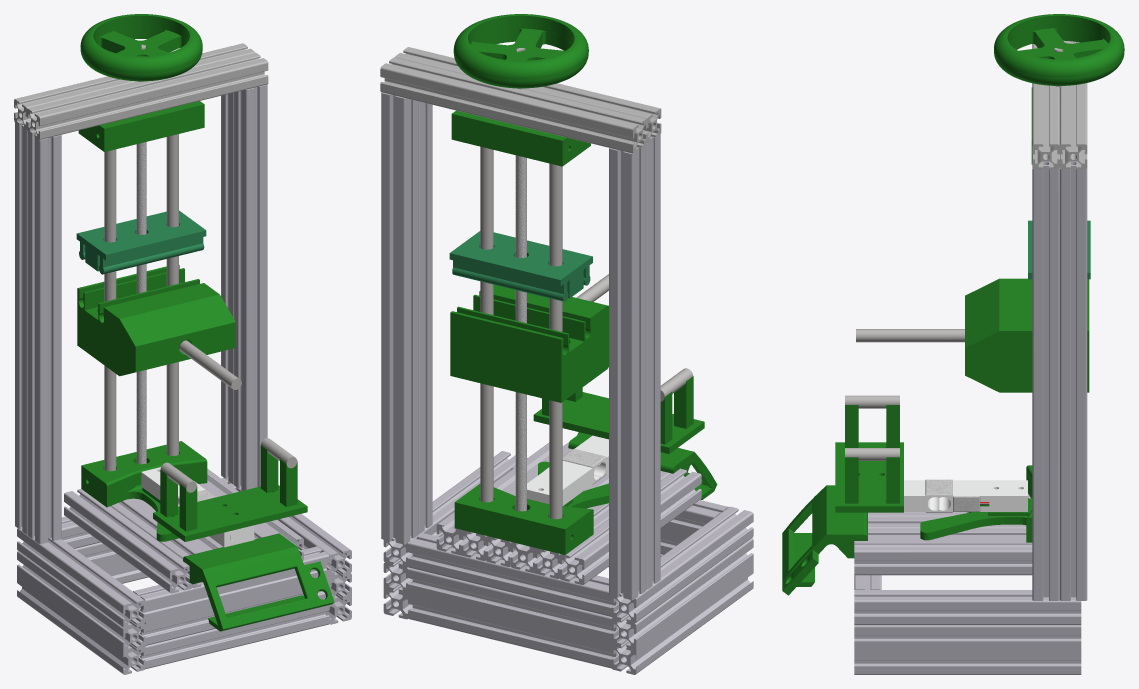
Rendered from Montagem final.glb.
3 renders of one model, left to right at view 1: azimuth 30°, elevation 25°; view 2: azimuth 150°, elevation 25°; view 3: azimuth 270°, elevation 25°, orthographic. The views are drawn at different scales.
Parts seen in each view (by area): view 1: Perfil de Aluminio 20x60x346 (×2), Sólido1 (×6), Perfil de Alumínio 20x60x165 (×6), Perfil de Aluminio 20x60x205, Sólido2 (×3), Guia linear 8x295 (×2), Fuso trapezoidal 10x300, Célula de Carga 129x27x12,7, Ponteira; view 2: Perfil de Aluminio 20x60x346 (×2), Perfil de Alumínio 20x60x165 (×6), Sólido1 (×6), Perfil de Aluminio 20x60x205, Sólido2 (×2), Guia linear 8x295 (×2), Fuso trapezoidal 10x300, Célula de Carga 129x27x12,7; view 3: Perfil de Alumínio 20x60x165 (×2), Perfil de Aluminio 20x60x346, Sólido1 (×5), Sólido2 (×3), Perfil de Aluminio 20x60x205, Célula de Carga 129x27x12,7, Ponteira, Rolete (×2).
Boxes of the visible parts, bbox=[...] form: Perfil de Aluminio 20x60x346 (×2): bbox=[15, 84, 267, 543]; Sólido1 (×6): bbox=[76, 101, 334, 631]; Perfil de Alumínio 20x60x165 (×6): bbox=[17, 468, 351, 674]; Perfil de Aluminio 20x60x205: bbox=[14, 43, 268, 139]; Sólido2 (×3): bbox=[80, 14, 297, 531]; Guia linear 8x295 (×2): bbox=[104, 134, 178, 471]; Fuso trapezoidal 10x300: bbox=[136, 44, 146, 464]; Célula de Carga 129x27x12,7: bbox=[141, 467, 254, 547]; Ponteira: bbox=[179, 340, 241, 389]; Perfil de Aluminio 20x60x346 (×2): bbox=[381, 92, 660, 599]; Perfil de Alumínio 20x60x165 (×6): bbox=[383, 442, 753, 674]; Sólido1 (×6): bbox=[449, 110, 717, 554]; Perfil de Aluminio 20x60x205: bbox=[380, 47, 661, 153]; Sólido2 (×2): bbox=[453, 14, 693, 444]; Guia linear 8x295 (×2): bbox=[480, 146, 562, 519]; Fuso trapezoidal 10x300: bbox=[515, 48, 526, 511]; Célula de Carga 129x27x12,7: bbox=[527, 435, 608, 505]; Perfil de Alumínio 20x60x165 (×2): bbox=[854, 517, 1081, 674]; Perfil de Aluminio 20x60x346: bbox=[1032, 161, 1087, 600]; Sólido1 (×5): bbox=[782, 220, 1090, 595]; Sólido2 (×3): bbox=[845, 14, 1124, 503]; Perfil de Aluminio 20x60x205: bbox=[1032, 40, 1087, 169]; Célula de Carga 129x27x12,7: bbox=[904, 479, 1027, 512]; Ponteira: bbox=[856, 329, 964, 342]; Rolete (×2): bbox=[845, 395, 899, 460].
Size of the model in its own units: 0.205 by 0.4639 by 0.2486.
14 materials, 3 textured.
